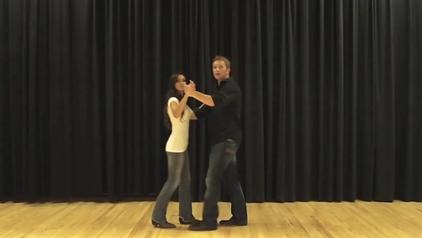hands_up: (154, 63, 200, 238)
stay: (194, 36, 243, 217), (154, 63, 200, 238)
